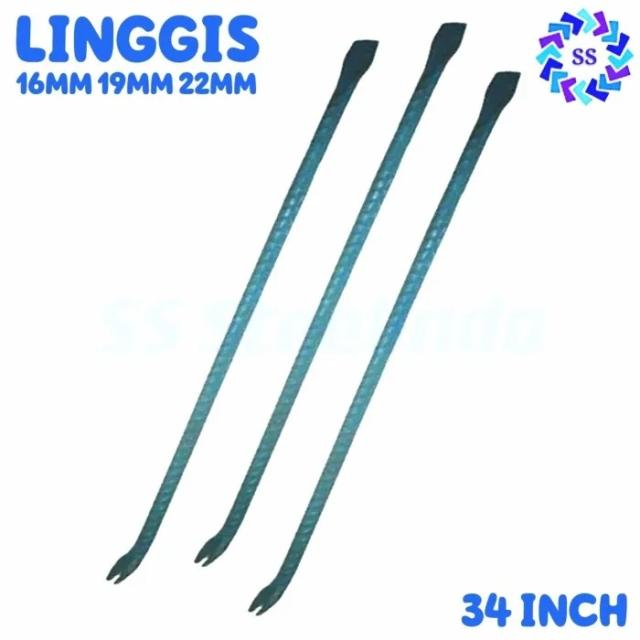Linggis: (111, 38, 382, 580)
